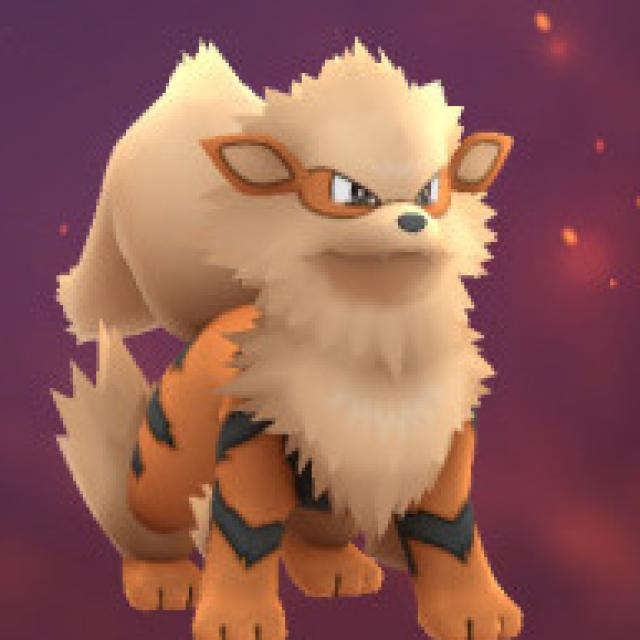Arcanine: (102, 47, 517, 640)
